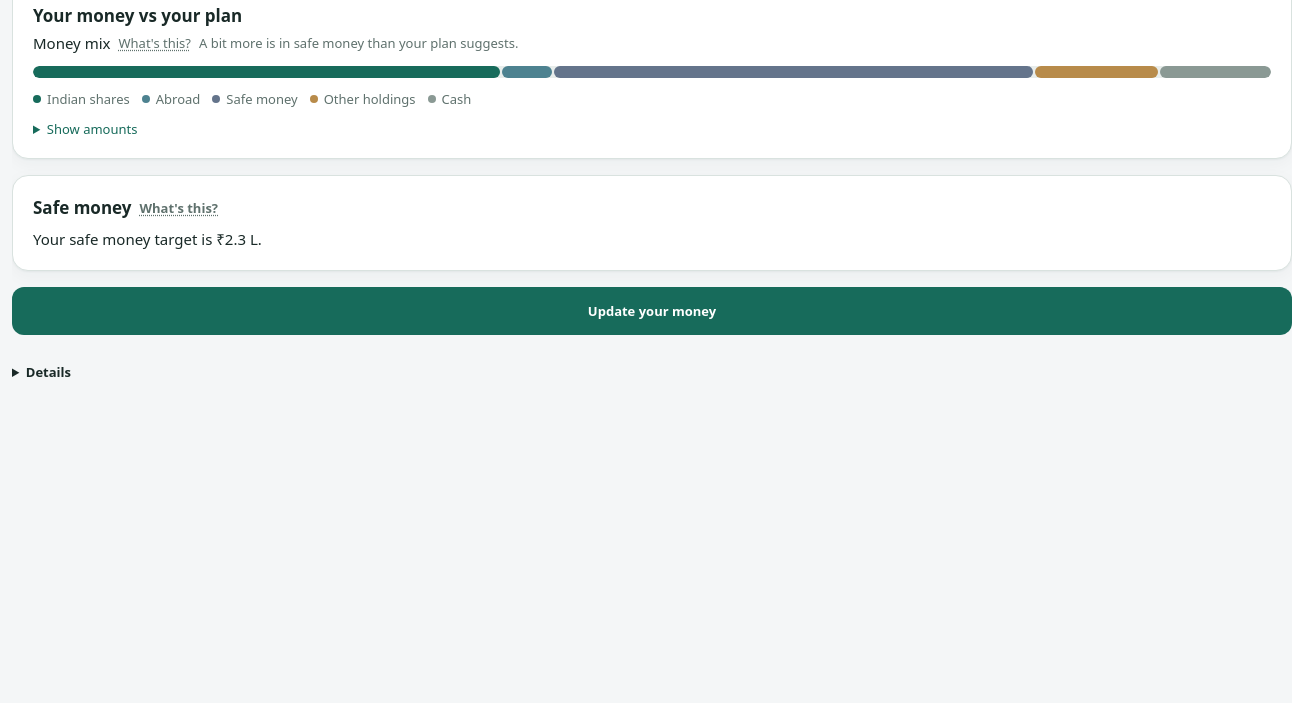
Test: Plan page › compares insurance options and never tells someone to surrender
Click the heading "Details": (48, 372) 26,363 -> 71,381
(page scrolled)
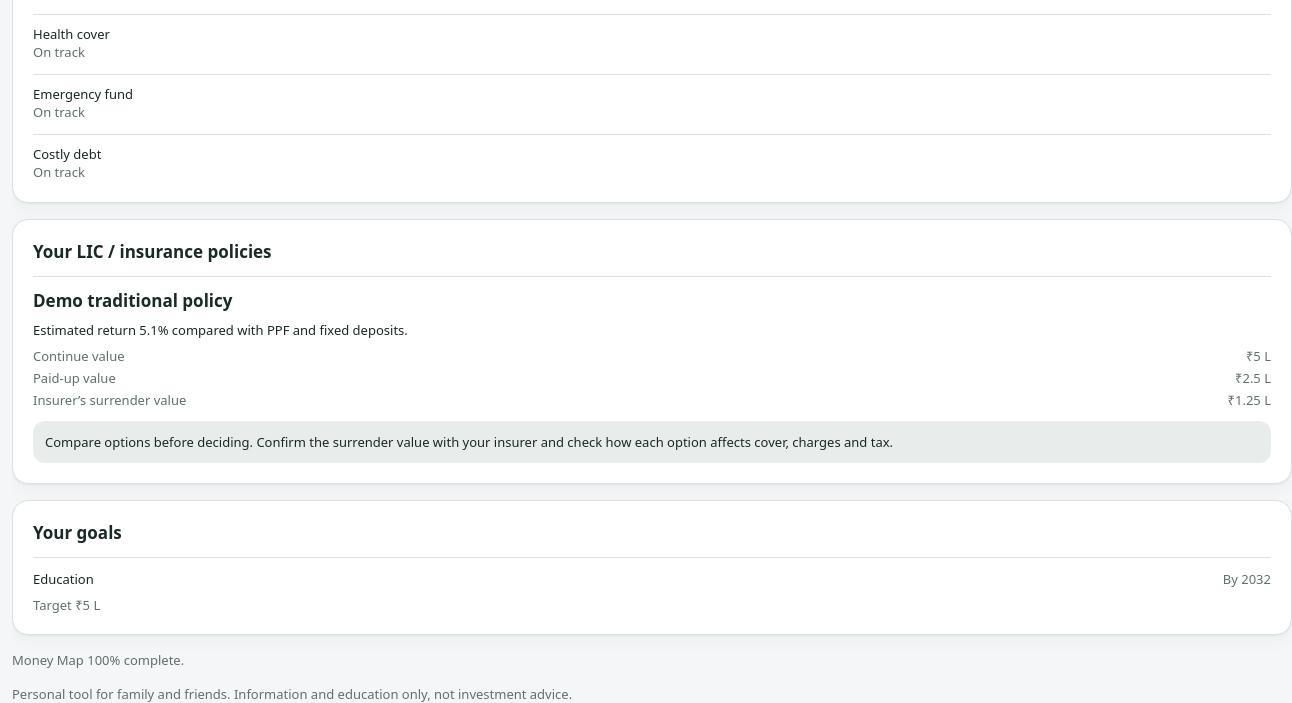
Now the text "Your LIC / insurance policies" is shown, box 33,240 -> 272,263
Now the text "Your LIC / insurance policies" shows "Compare options before deciding", box 45,433 -> 893,451
Now the text "Your LIC / insurance policies" shows "Estimated return 5.1%", box 12,219 -> 1291,484
